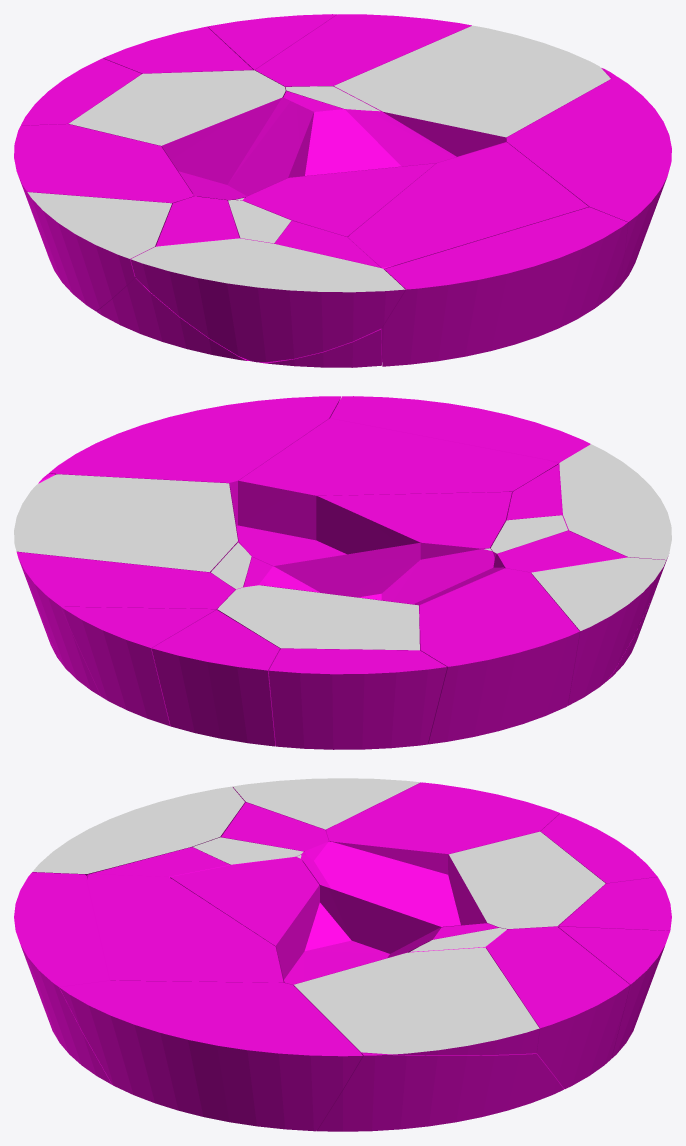
File: Board_Pink_F.dae
3 renders of one model, top to bottom at view 1: azimuth 30°, elevation 25°; view 2: azimuth 150°, elevation 25°; view 3: azimuth 270°, elevation 25°, orthographic.
Visible parts, largest first — view 1: Board_Pink_cell.003, Board_Pink_cell.013, Board_Pink_cell.011, Board_Pink_cell.023, Board_Pink_cell.009, Board_Pink_cell.020, Board_Pink_cell.021, Board_Pink_cell.012, Board_Pink_cell.018, Board_Pink_cell.006, Board_Pink_cell.004, Board_Pink_cell.002 (+8 smaller); view 2: Board_Pink_cell.020, Board_Pink_cell.011, Board_Pink_cell.016, Board_Pink_cell.009, Board_Pink_cell.023, Board_Pink_cell.019, Board_Pink_cell.004, Board_Pink_cell.012, Board_Pink_cell.021, Board_Pink_cell.018, Board_Pink_cell.006, Board_Pink_cell.005 (+8 smaller); view 3: Board_Pink_cell.023, Board_Pink_cell.011, Board_Pink_cell.009, Board_Pink_cell.014, Board_Pink_cell.004, Board_Pink_cell.003, Board_Pink_cell.020, Board_Pink_cell.012, Board_Pink_cell.018, Board_Pink_cell.006, Board_Pink_cell.013, Board_Pink_cell.002 (+9 smaller).
Part boxes in pixels (x1,y1,x2,y2): Board_Pink_cell.003: (381,207,627,366); Board_Pink_cell.013: (130,238,405,362); Board_Pink_cell.011: (334,25,610,141); Board_Pink_cell.023: (506,76,671,287); Board_Pink_cell.009: (348,142,588,268); Board_Pink_cell.020: (14,124,193,283); Board_Pink_cell.021: (27,192,171,311); Board_Pink_cell.012: (69,70,285,146); Board_Pink_cell.018: (161,98,313,200); Board_Pink_cell.006: (289,109,506,177); Board_Pink_cell.004: (255,14,471,87); Board_Pink_cell.002: (243,163,435,237); Board_Pink_cell.020: (419,568,579,744); Board_Pink_cell.011: (14,474,237,572); Board_Pink_cell.016: (268,648,447,749); Board_Pink_cell.009: (238,418,558,495); Board_Pink_cell.023: (49,396,341,485); Board_Pink_cell.019: (151,610,279,746); Board_Pink_cell.004: (16,552,234,696); Board_Pink_cell.012: (217,585,419,650); Board_Pink_cell.021: (531,557,666,705); Board_Pink_cell.018: (260,543,504,624); Board_Pink_cell.006: (229,481,419,566); Board_Pink_cell.005: (61,606,216,726); Board_Pink_cell.023: (59,980,362,1131); Board_Pink_cell.011: (293,947,539,1055); Board_Pink_cell.009: (87,874,283,982); Board_Pink_cell.014: (317,1052,563,1131); Board_Pink_cell.004: (486,926,629,1089); Board_Pink_cell.003: (14,872,112,1084); Board_Pink_cell.020: (326,782,559,854); Board_Pink_cell.012: (448,831,605,929); Board_Pink_cell.018: (302,842,486,927); Board_Pink_cell.006: (276,885,440,985); Board_Pink_cell.013: (32,786,244,875); Board_Pink_cell.002: (170,857,319,947).
Bounding box in the file's own units: 2 × 2 × 0.3.
